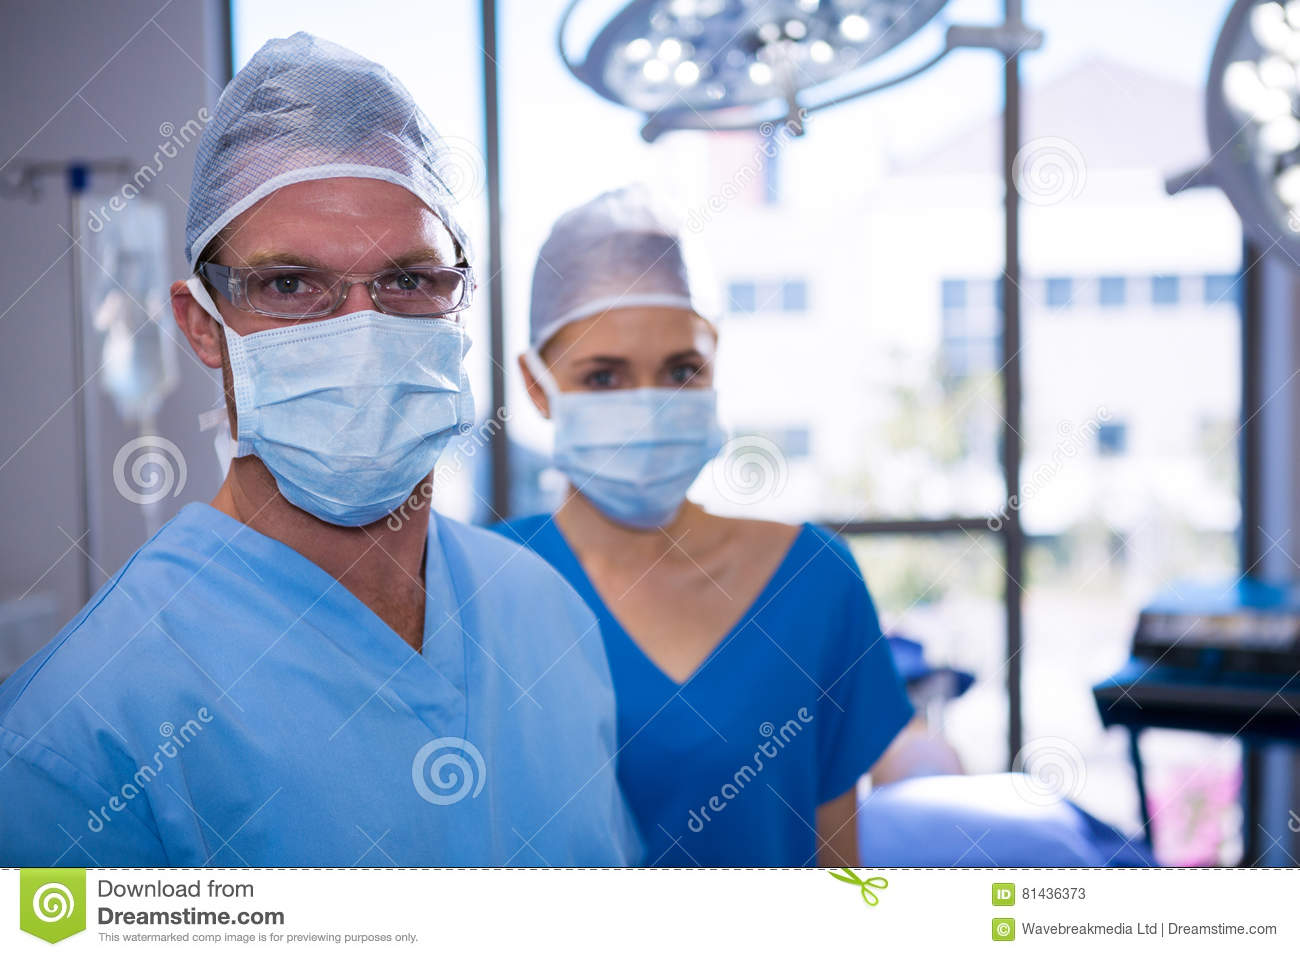mask: (220, 323, 479, 544), (544, 389, 722, 539)
